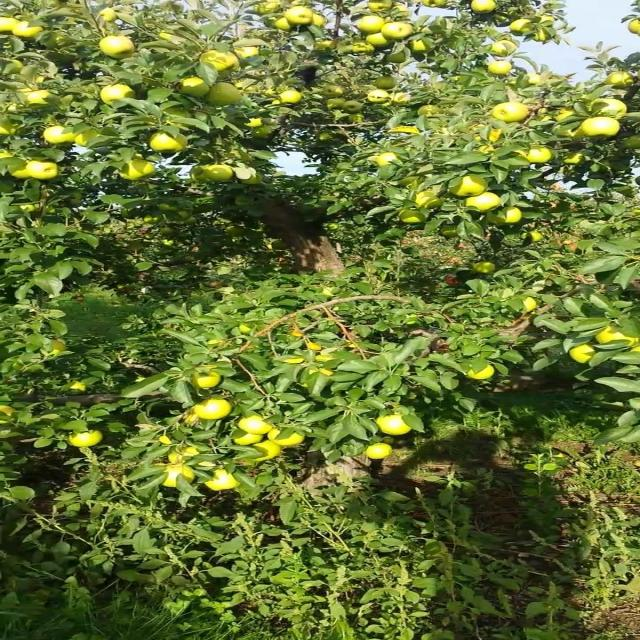apple: (205, 84, 244, 106), (148, 132, 188, 153), (447, 176, 485, 197), (376, 416, 412, 436), (120, 160, 156, 180), (198, 400, 233, 420), (468, 192, 503, 212), (596, 328, 638, 344), (106, 36, 135, 59), (205, 52, 240, 71), (205, 472, 240, 491), (163, 468, 196, 488), (582, 120, 619, 137), (497, 104, 530, 123), (269, 432, 306, 448), (241, 416, 272, 435), (490, 208, 523, 225), (70, 432, 105, 448), (596, 100, 626, 117), (170, 448, 199, 465), (525, 148, 555, 164), (13, 24, 43, 40), (184, 80, 212, 97), (255, 444, 283, 461), (28, 164, 57, 180), (383, 24, 412, 40), (284, 8, 313, 24), (575, 344, 597, 364), (106, 88, 135, 103), (49, 128, 75, 144), (419, 192, 444, 208), (205, 168, 235, 181), (468, 368, 498, 380), (369, 444, 391, 460), (362, 16, 384, 32), (611, 72, 633, 88), (77, 132, 98, 148), (255, 4, 281, 16), (561, 128, 587, 140), (511, 20, 533, 34), (234, 48, 261, 59), (369, 36, 393, 48), (376, 76, 398, 89), (28, 92, 50, 105), (191, 168, 210, 183), (404, 212, 427, 224), (390, 92, 411, 105), (490, 64, 512, 76), (198, 376, 220, 388), (497, 44, 519, 56), (234, 436, 263, 445), (49, 340, 66, 355), (476, 264, 498, 275), (369, 92, 389, 104), (412, 40, 430, 53), (390, 52, 409, 64), (276, 20, 295, 32), (99, 12, 119, 23), (284, 92, 302, 104), (234, 80, 252, 92), (611, 160, 629, 172), (13, 168, 30, 180), (376, 156, 396, 166), (355, 44, 375, 54), (476, 4, 498, 13), (348, 100, 363, 113), (369, 4, 393, 12), (426, 0, 450, 8), (6, 60, 23, 71), (525, 76, 542, 87), (312, 16, 327, 28), (419, 108, 441, 116), (440, 228, 459, 237), (6, 20, 20, 32), (525, 300, 539, 312), (554, 112, 574, 120), (227, 228, 247, 236), (326, 100, 343, 109), (326, 88, 345, 96), (490, 132, 503, 143), (568, 156, 585, 164), (241, 324, 252, 335), (248, 120, 263, 128), (540, 16, 555, 24), (163, 204, 178, 212), (248, 176, 263, 184), (348, 116, 363, 124), (397, 8, 411, 16), (540, 32, 551, 42), (70, 384, 85, 391), (319, 44, 334, 51), (163, 32, 174, 40), (163, 436, 172, 445), (269, 88, 279, 96)
